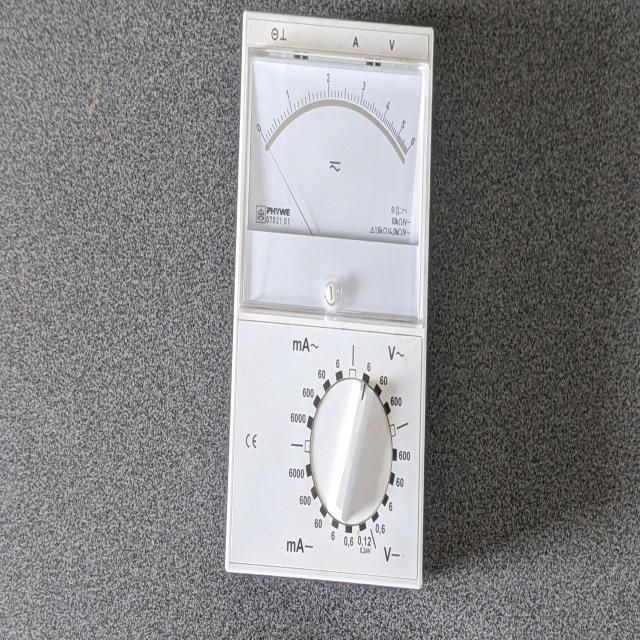Analog Multimeter: (217, 4, 440, 600)
